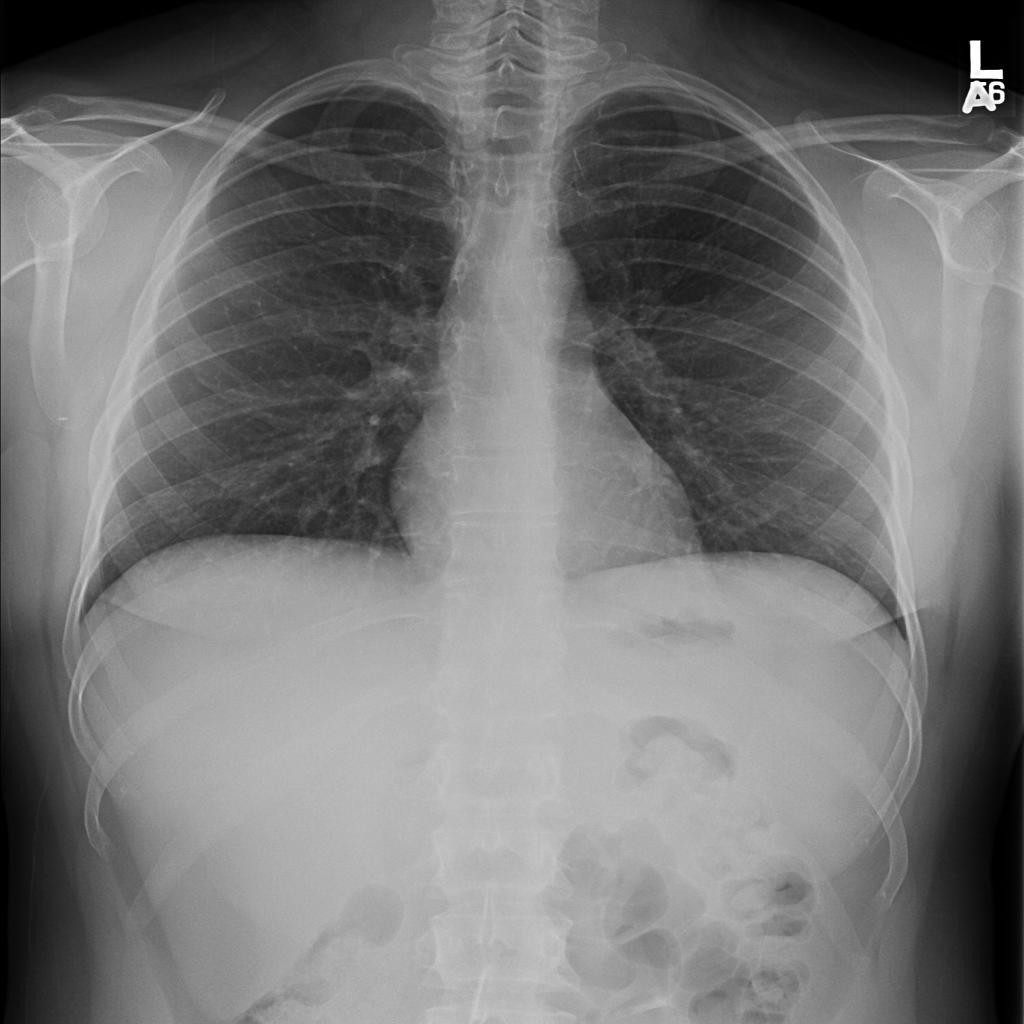Nodule: (350, 64, 383, 85), (377, 96, 402, 113)
